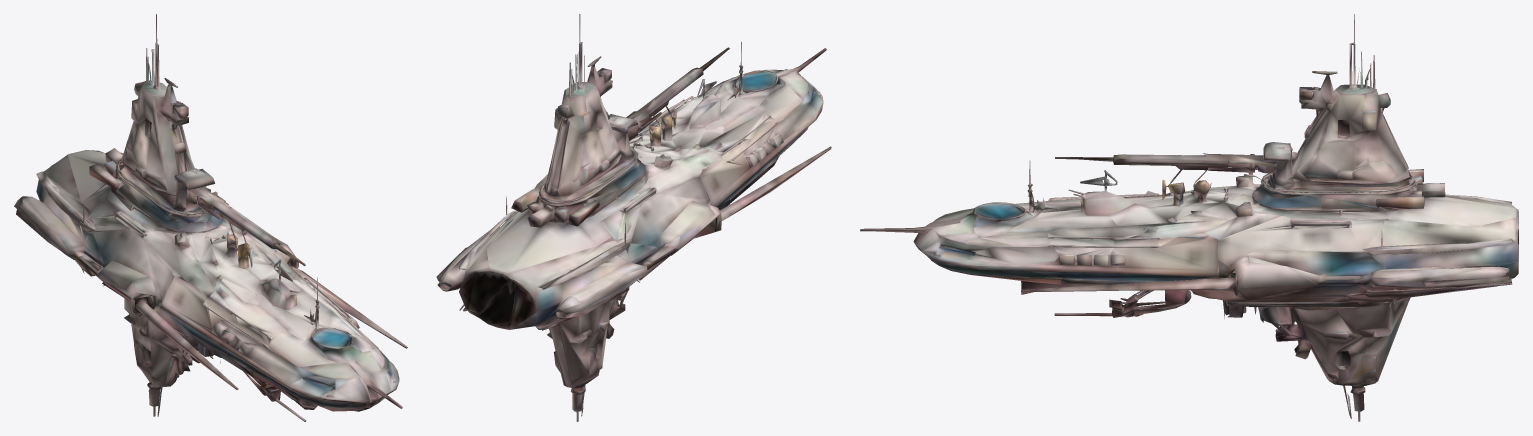
The model's file is mothership.glb.
3 renders of one model, left to right at view 1: azimuth 30°, elevation 25°; view 2: azimuth 150°, elevation 25°; view 3: azimuth 270°, elevation 25°, orthographic.
Parts seen in each view (by area): view 1: node_0; view 2: node_0; view 3: node_0.
Boxes of the visible parts, x1=… form: node_0: x1=14, y1=14, x2=407, y2=421; node_0: x1=436, y1=14, x2=831, y2=421; node_0: x1=860, y1=14, x2=1518, y2=421.
Bounding box in the file's own units: 11748 × 26430 × 38727.
1 material, 1 textured.
